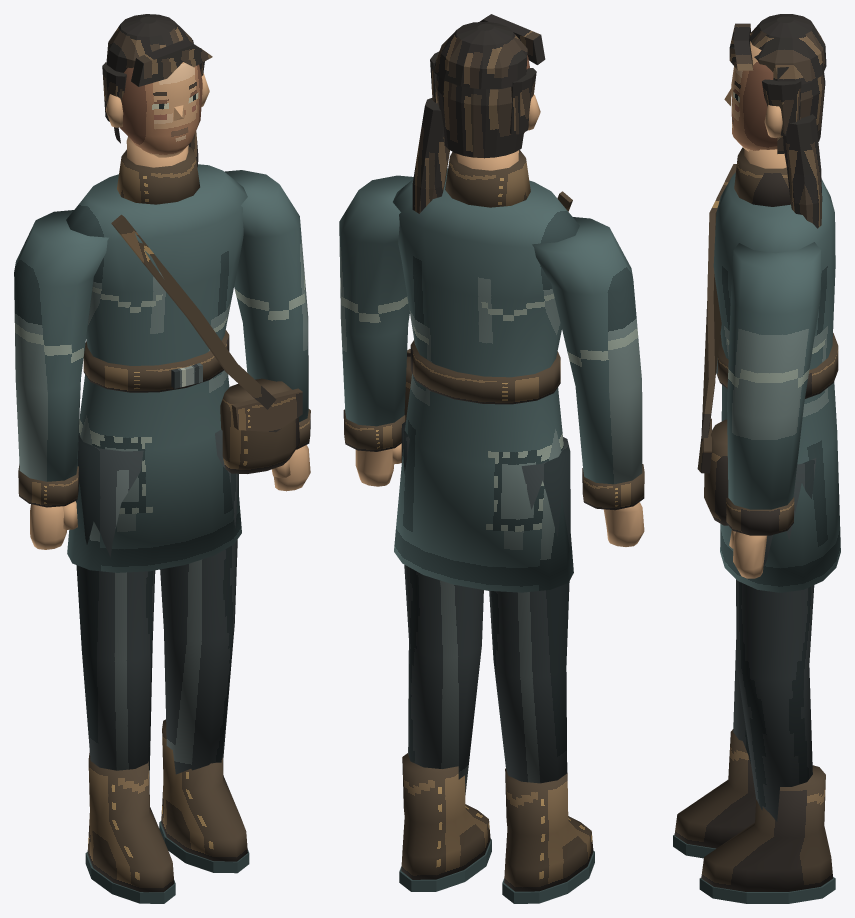
The model's file is mara-crafted.glb.
3 renders of one model, left to right at view 1: azimuth 30°, elevation 25°; view 2: azimuth 150°, elevation 25°; view 3: azimuth 270°, elevation 25°, orthographic. The views are drawn at different scales.
Parts seen in each view (by area): view 1: mara-crafted runtime mesh; view 2: mara-crafted runtime mesh; view 3: mara-crafted runtime mesh.
Boxes of the visible parts, x1=… form: mara-crafted runtime mesh: x1=14, y1=14, x2=310, y2=903; mara-crafted runtime mesh: x1=339, y1=14, x2=644, y2=903; mara-crafted runtime mesh: x1=673, y1=14, x2=840, y2=903.
Bounding box in the file's own units: 0.602 × 1.7 × 0.3057.
Materials: 1 (1 with a texture image).
